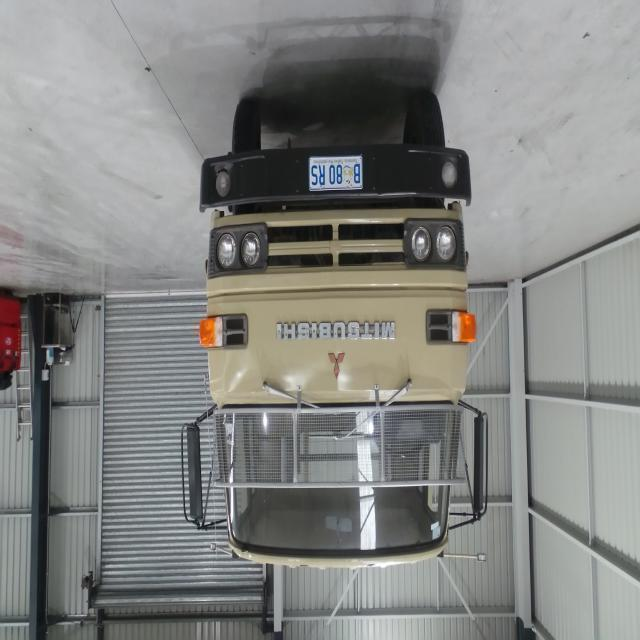truck: (181, 86, 488, 582)
